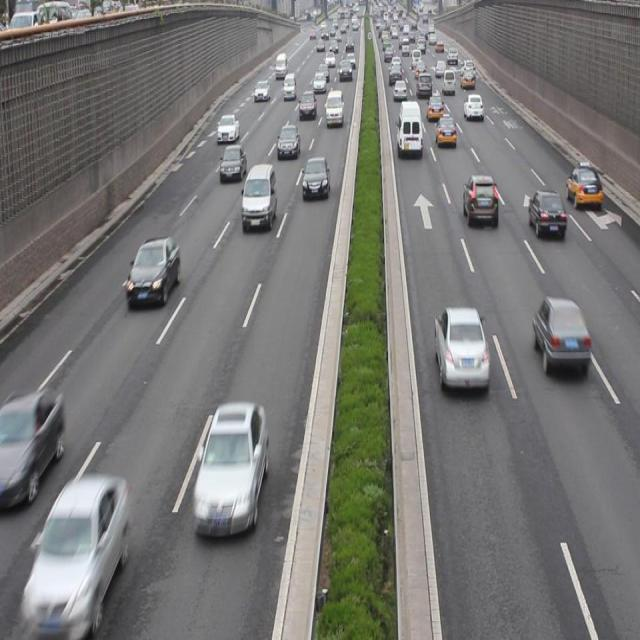car: (30, 482, 130, 627), (192, 402, 269, 540), (1, 392, 64, 498), (530, 293, 590, 380), (433, 307, 489, 397), (125, 240, 182, 304), (242, 164, 278, 238), (460, 175, 498, 228), (564, 161, 602, 210), (526, 192, 564, 238), (300, 156, 330, 203), (220, 145, 248, 187), (217, 111, 240, 146), (277, 124, 298, 162), (436, 112, 456, 151)
truck: (395, 99, 423, 159)
